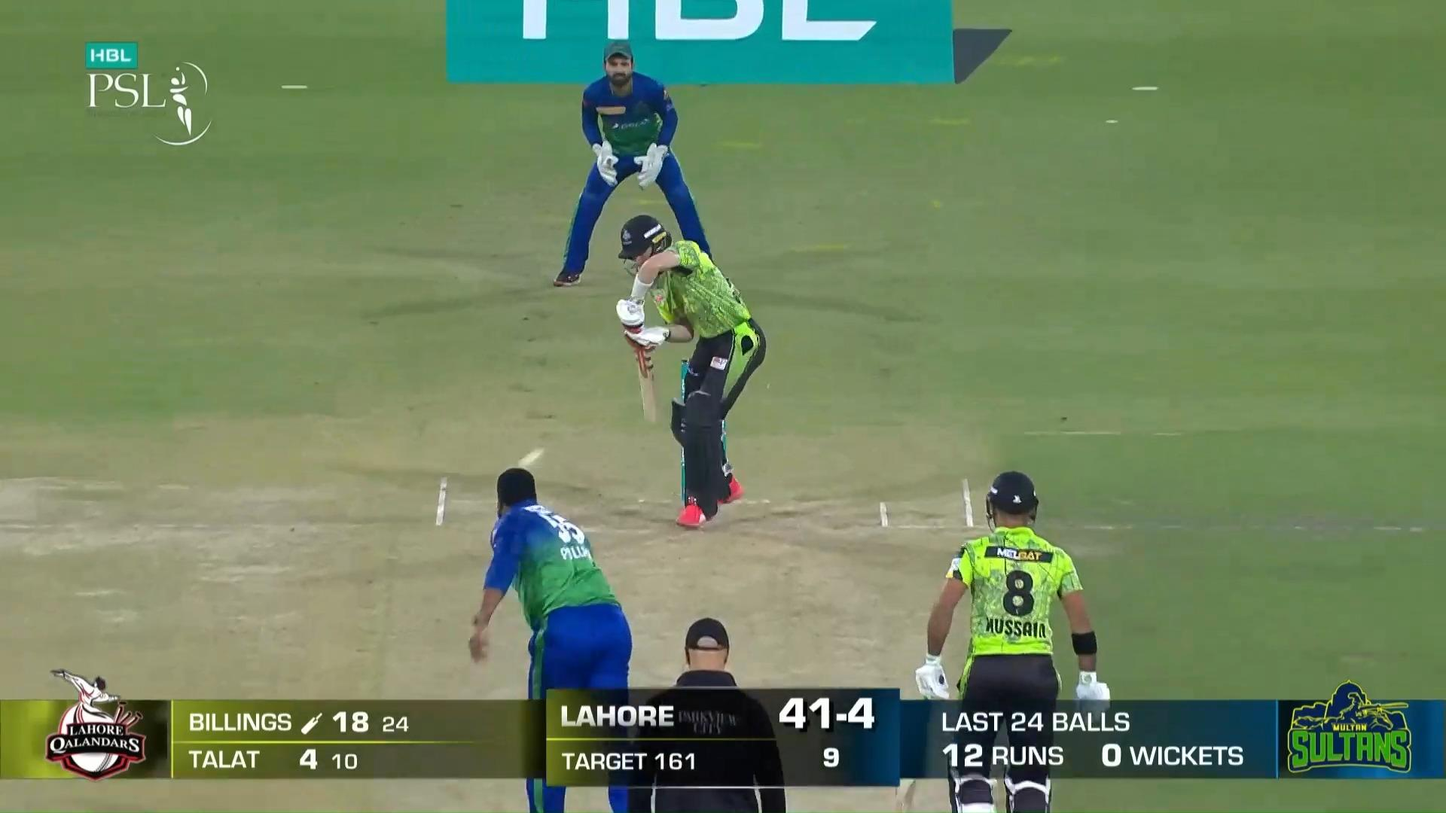batsman: (618, 214, 767, 529)
